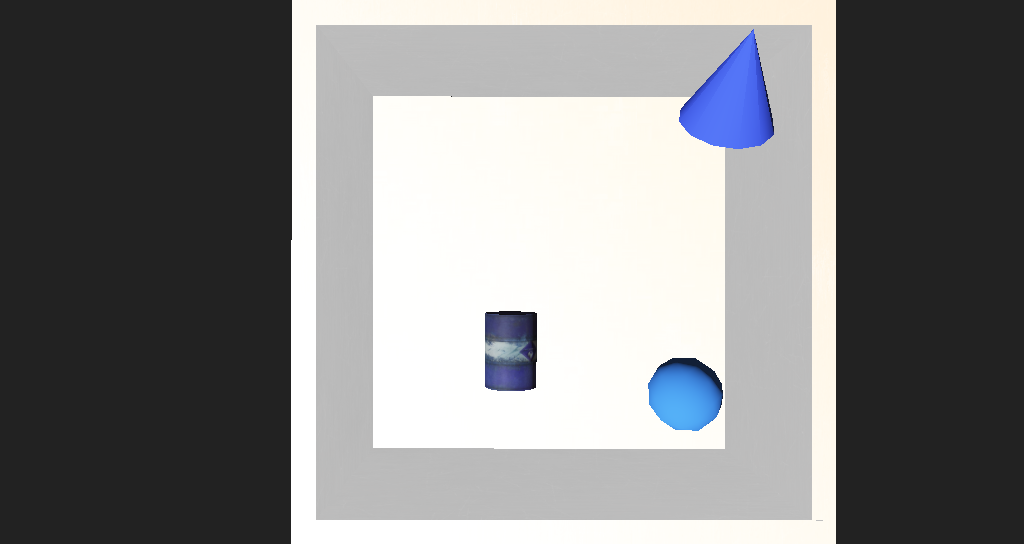cone: (448, 291, 495, 339)
cylinder: (603, 105, 704, 200)
sphere: (586, 322, 653, 365)
